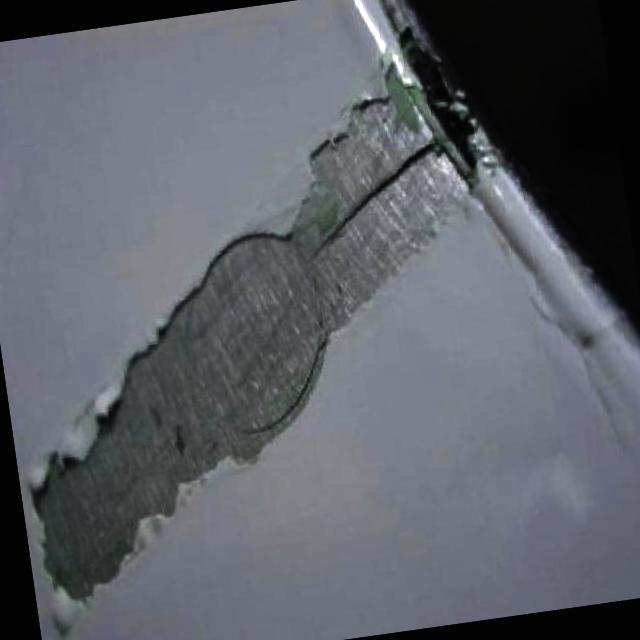crack: (360, 144, 442, 200), (299, 200, 372, 258)
